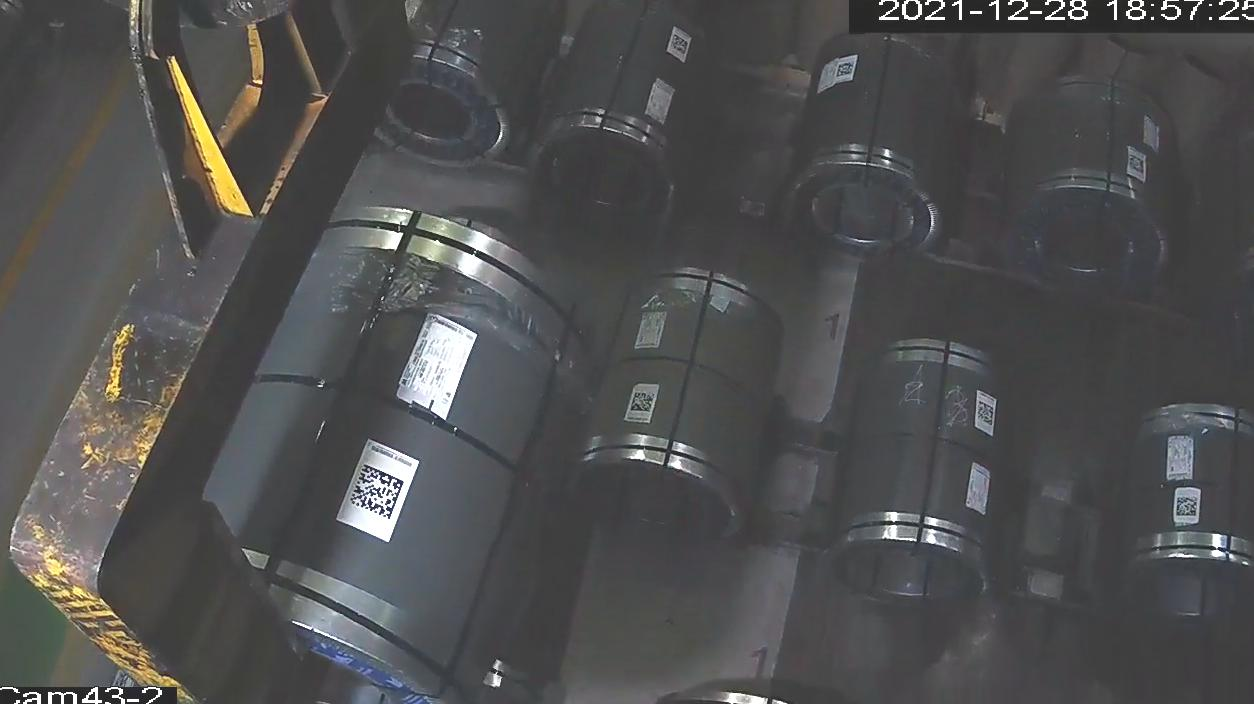data matrix: (347, 460, 409, 526), (630, 391, 657, 415), (976, 400, 997, 428), (1176, 496, 1200, 519), (1127, 153, 1148, 176), (670, 34, 690, 57), (836, 61, 857, 79)
